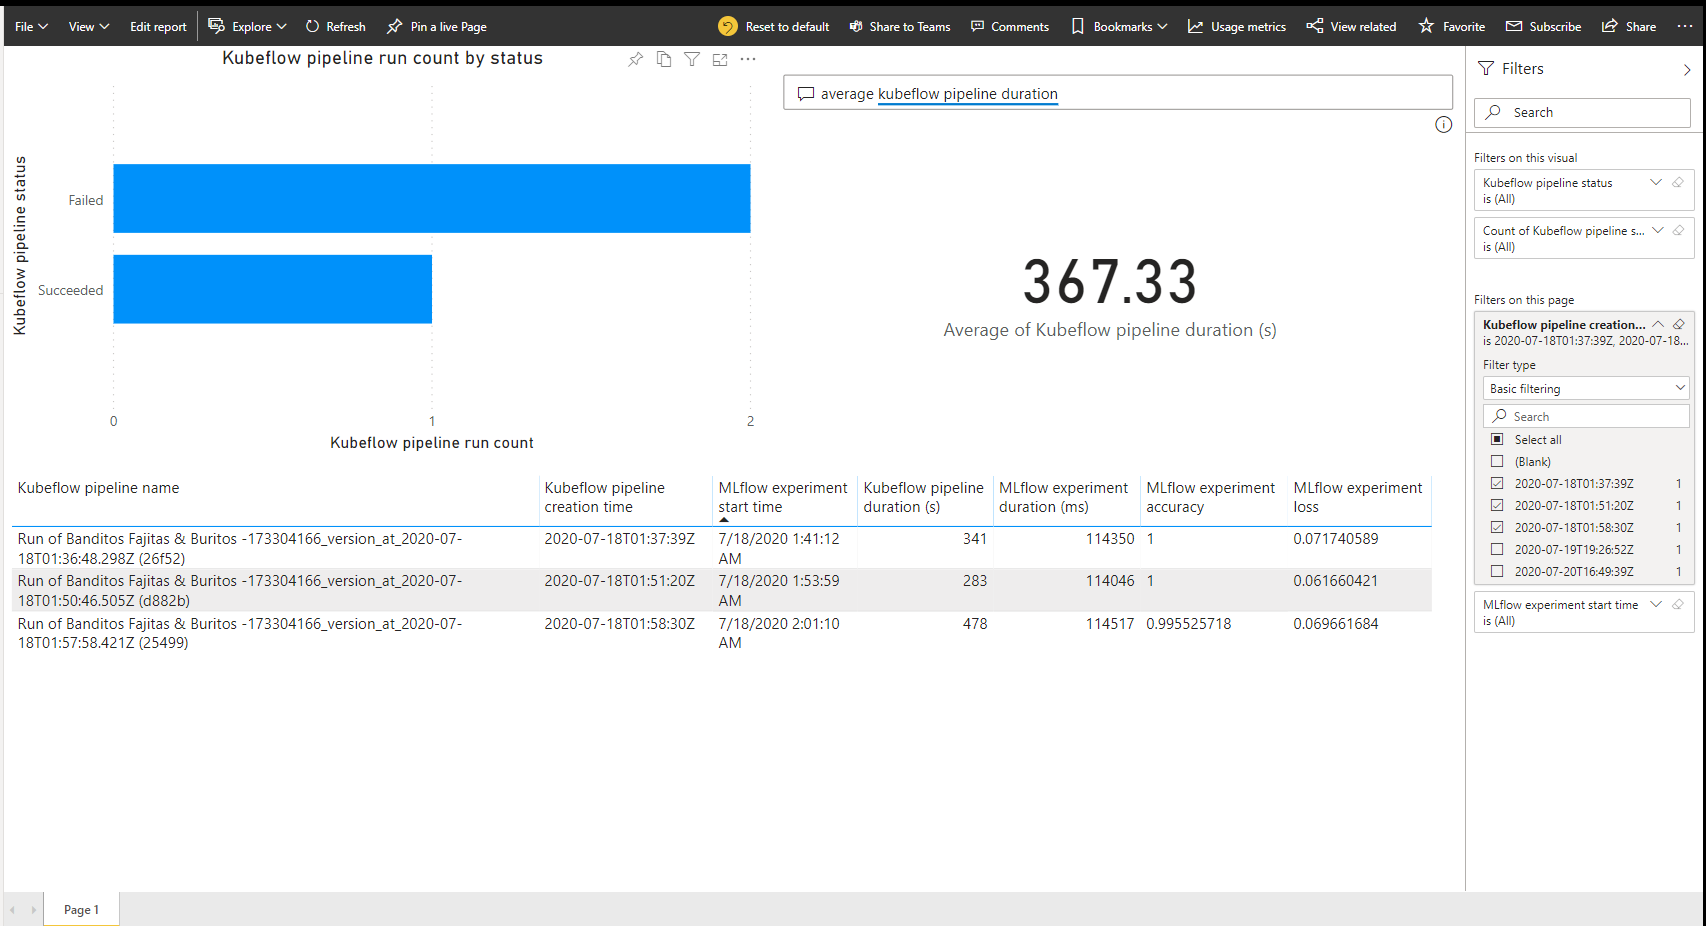

What the dashboard file says about the page in this screenshot:
{"tool":"powerbi","page":{"name":"Page 1","canvas":[1280,720],"ordinal":0},"visuals":[{"type":"barChart","title":"Kubeflow pipeline run count by status","fields":{"Category":["KFP_MLF Runs.kfp.status"],"Y":["CountNonNull(KFP_MLF Runs.kfp.status)"]},"box":[0,0,663.4,360],"z":0},{"type":"tableEx","fields":{"Values":["KFP_MLF Runs.Kubeflow pipeline name","KFP_MLF Runs.Kubeflow pipeline URL","KFP_MLF Runs.MLflow experiment URL","KFP_MLF Runs.kfp.created_at","KFP_MLF Runs.MLflow experiment start time","KFP_MLF Runs.Kubeflow pipeline duration (s)","KFP_MLF Runs.MLflow experiment duration (ms)","KFP_MLF Runs.get.accuracy","KFP_MLF Runs.get.loss"]},"box":[1.1,371.3,1278.9,349],"z":1000},{"type":"textbox","box":[673,0,607,360],"z":2000},{"type":"qnaVisual","box":[673.3,0,605.3,348.7],"z":3000}]}

Visuals, with their boxes in screenshot pixels (x1, y1, x2, y2):
"Kubeflow pipeline run count by status" barChart: pyautogui.locateOnScreen(133, 40, 943, 479)
tableEx - KFP_MLF Runs.Kubeflow pipeline name x KFP_MLF Runs.Kubeflow pipeline URL: pyautogui.locateOnScreen(135, 493, 1696, 919)
textbox: pyautogui.locateOnScreen(955, 40, 1696, 479)
qnaVisual: pyautogui.locateOnScreen(955, 40, 1694, 466)
